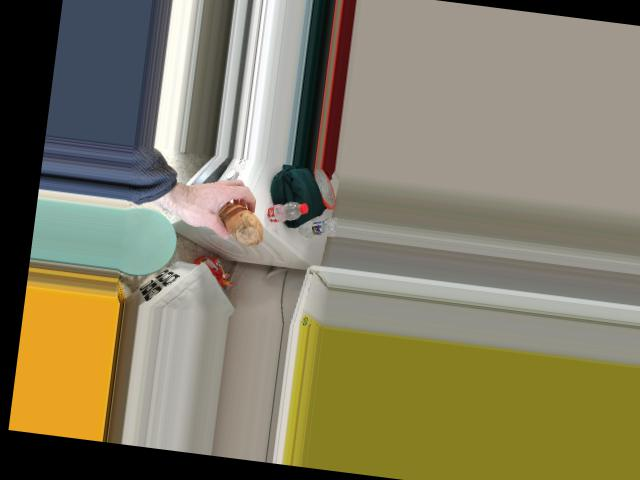sweet_potato: (215, 202, 268, 246)
